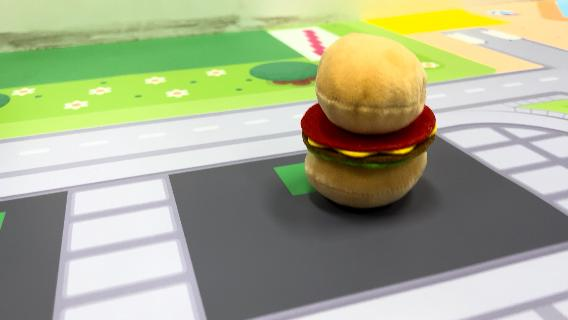burger: (296, 29, 441, 210)
